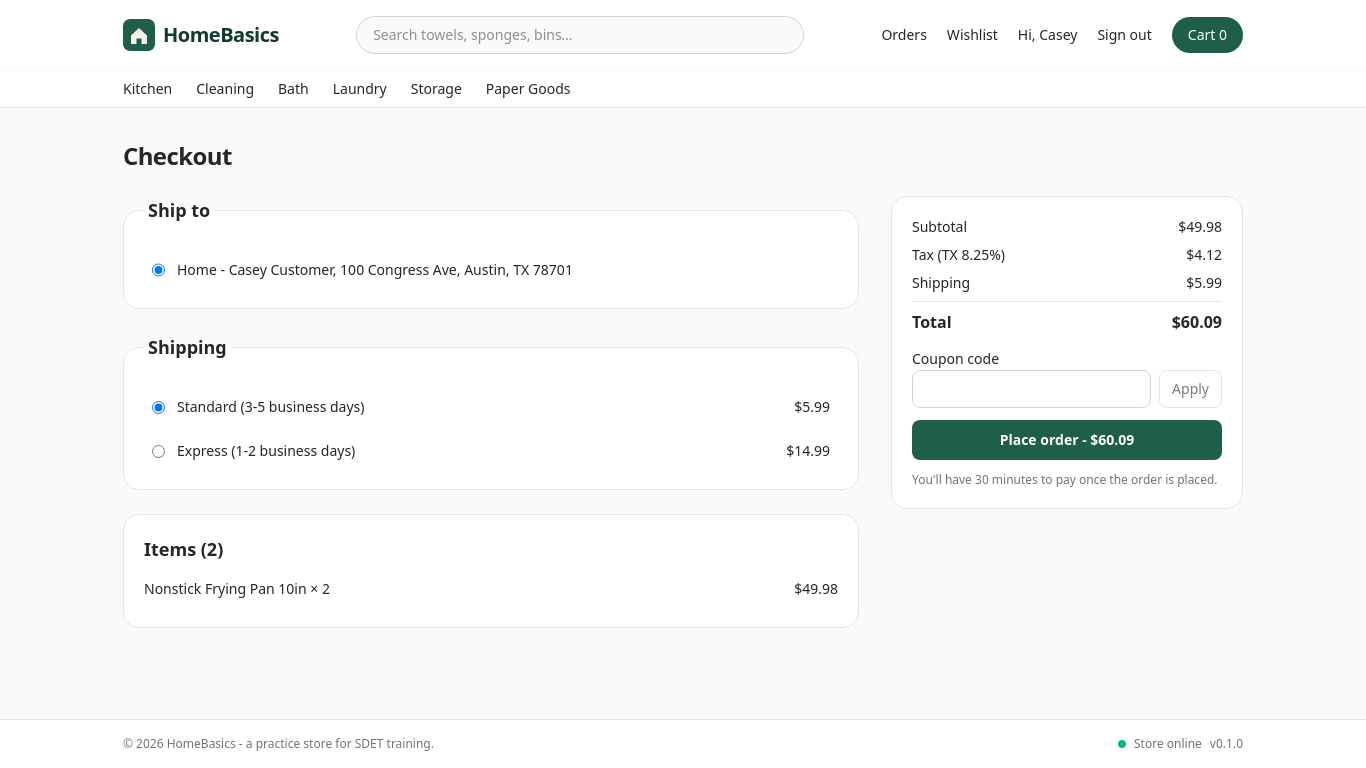
Test: CheckoutPage › switching to express re-quotes
Expected: the text "$60.09" is shown, [1172,310,1222,334]
Click the radio button with test id "shipping-express" at [158, 451], box [152,444,165,458]
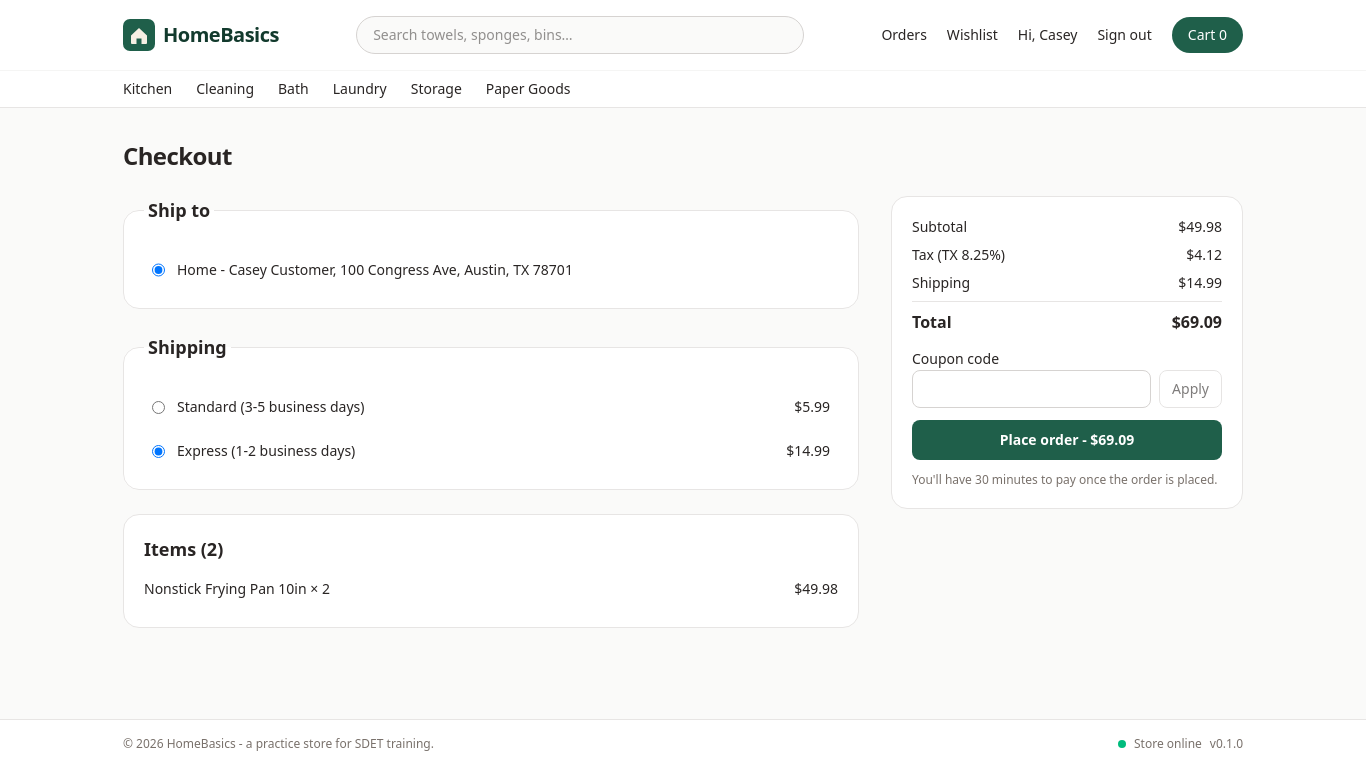
Expected: the text with test id "summary-total" reads "$69.09", [1172,311,1222,333]
